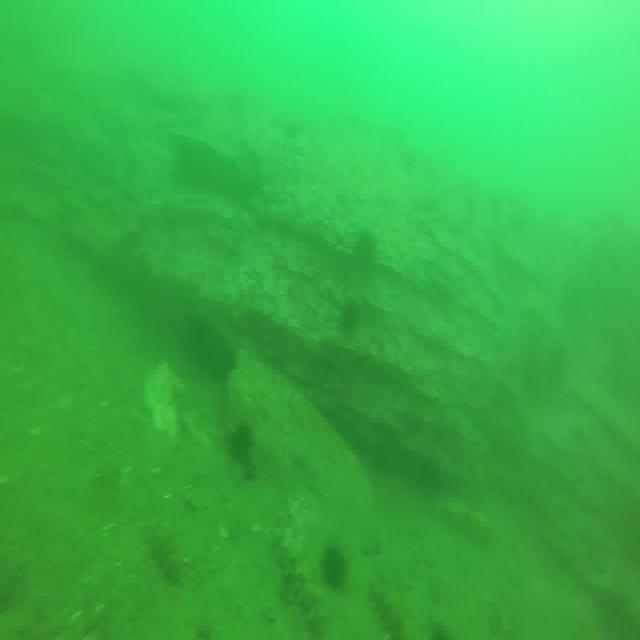echinus: (320, 537, 349, 595), (355, 230, 379, 288), (338, 293, 366, 342), (231, 419, 255, 473)
holothurian: (272, 521, 325, 640), (139, 508, 182, 590), (436, 496, 491, 548), (367, 567, 405, 640)
